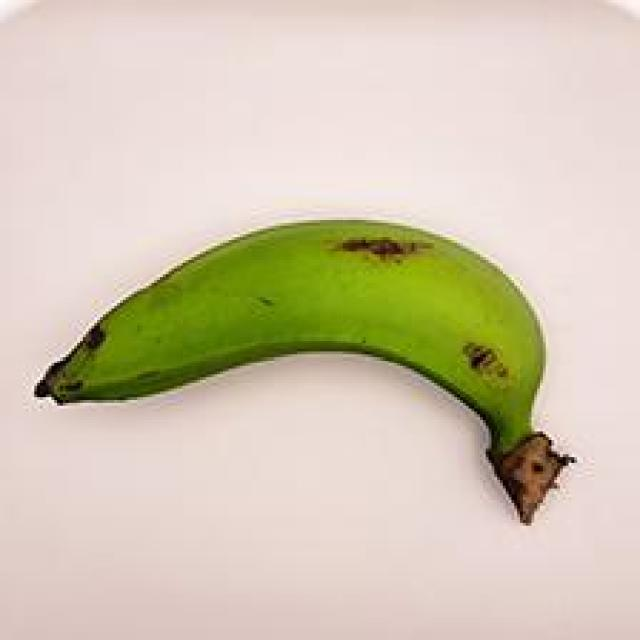Raw: (23, 189, 614, 544)
